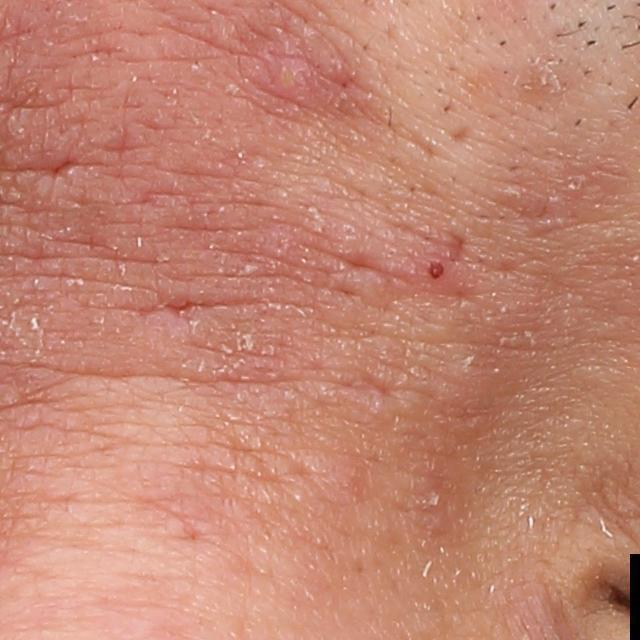atrophic_scar: (446, 227, 470, 262), (448, 124, 471, 143)
papule: (412, 247, 451, 287)
